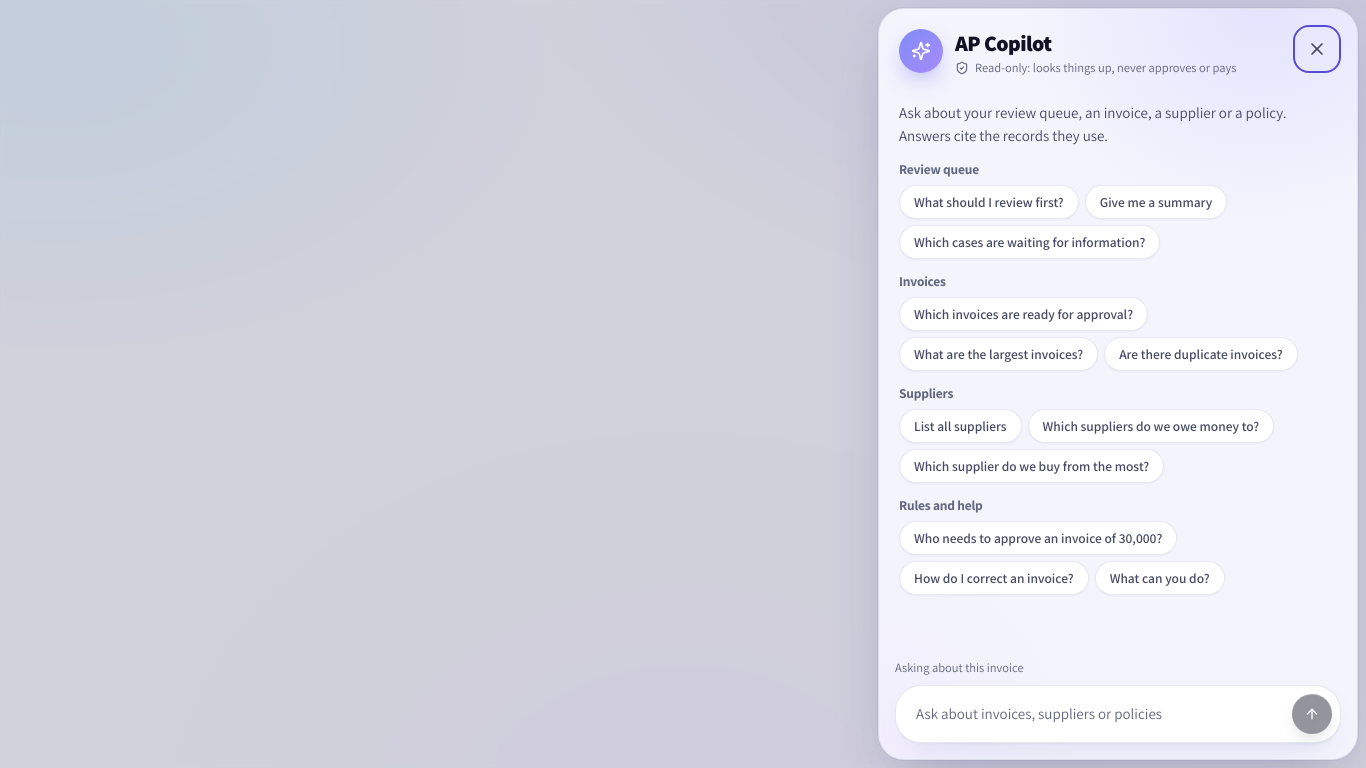
Test: AP Copilot panel › marks an answer whose figures could not be verified
Type "How much is at risk?" into the text box labelled "Ask about invoices, suppliers or policies". click: (1094, 714)
box: [904,694,1284,734]
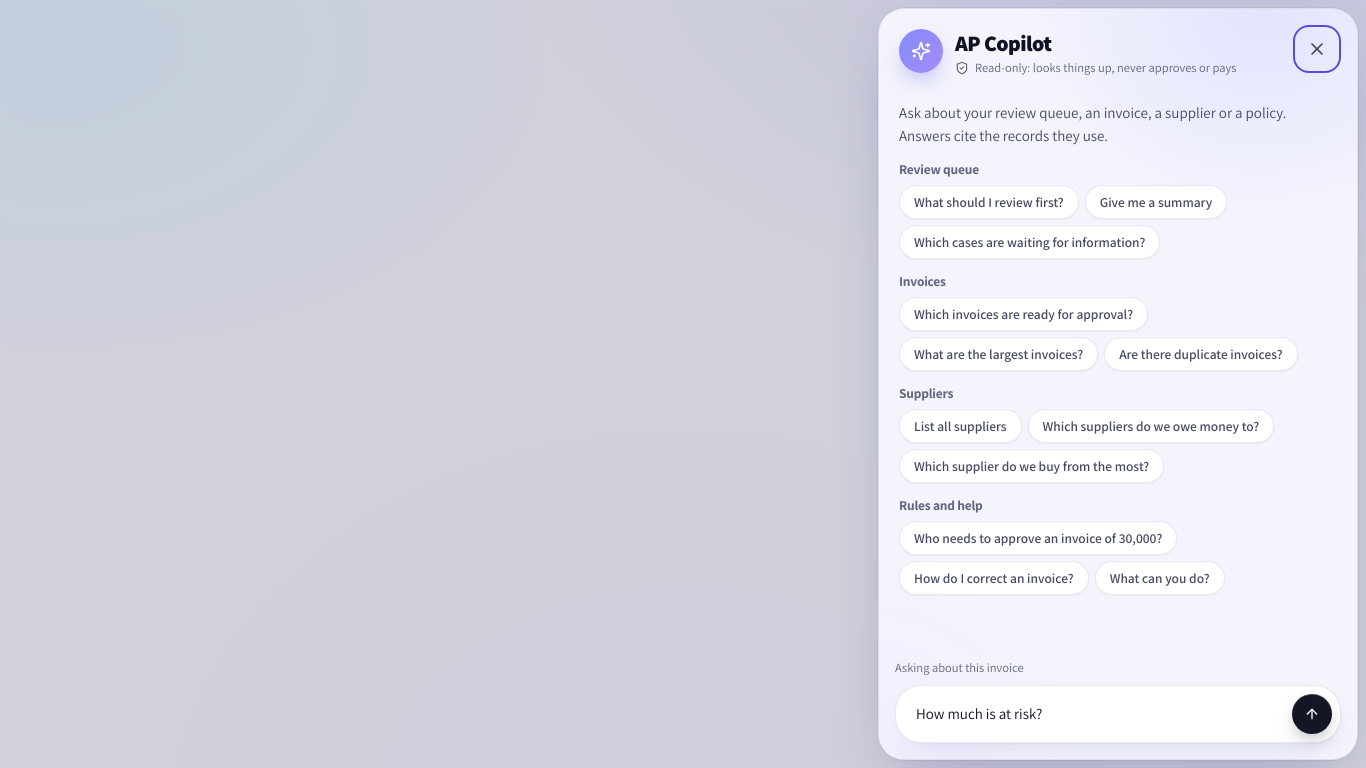
Press Enter in the text box named "Ask", box [904,694,1284,734]
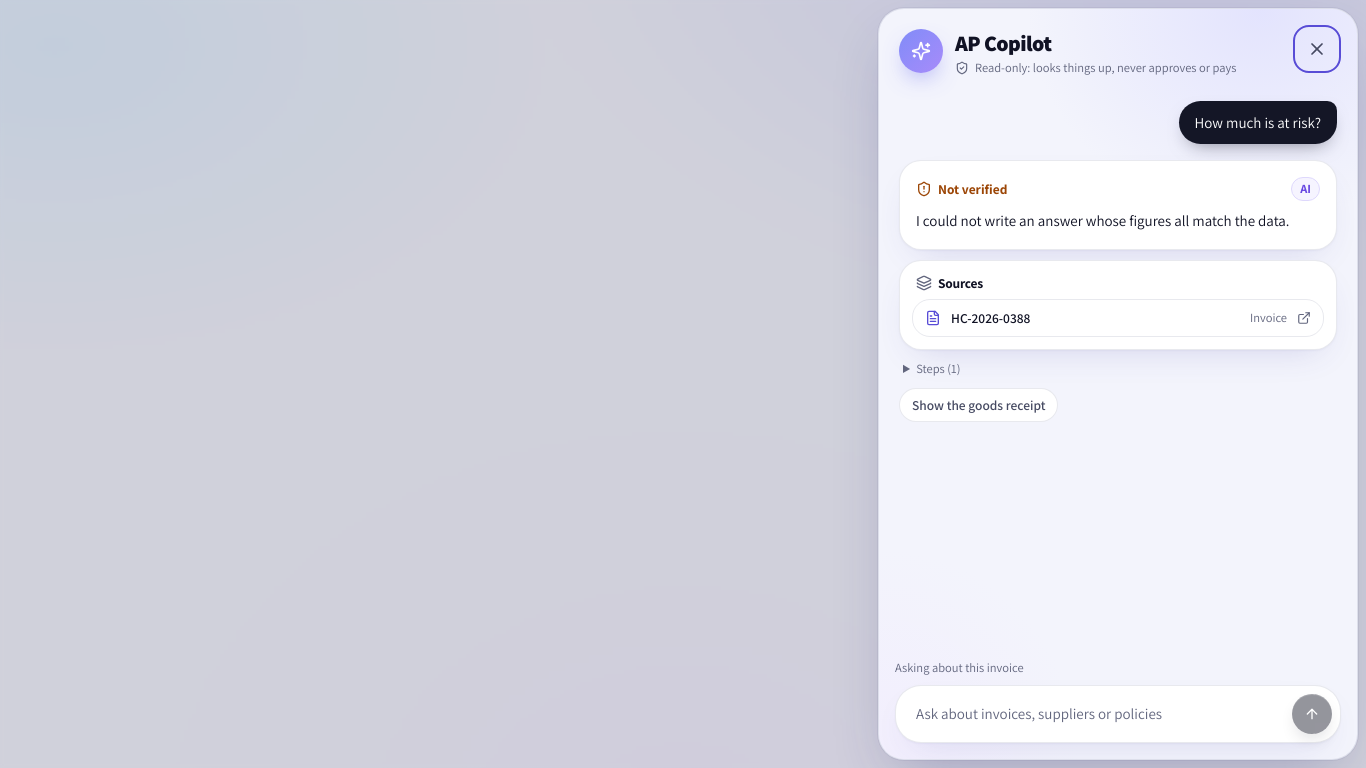
Expected: the text "Not verified" is shown, [916,179,1007,199]
